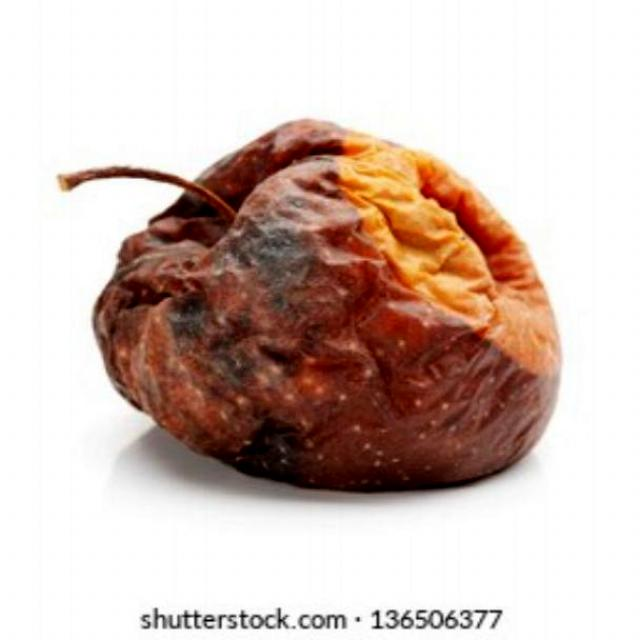ROT: (51, 86, 588, 510)
